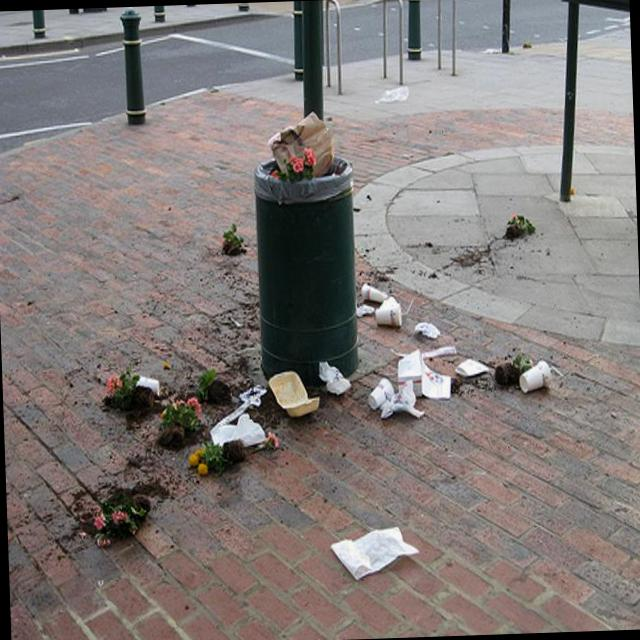garbage: (33, 81, 564, 620)
